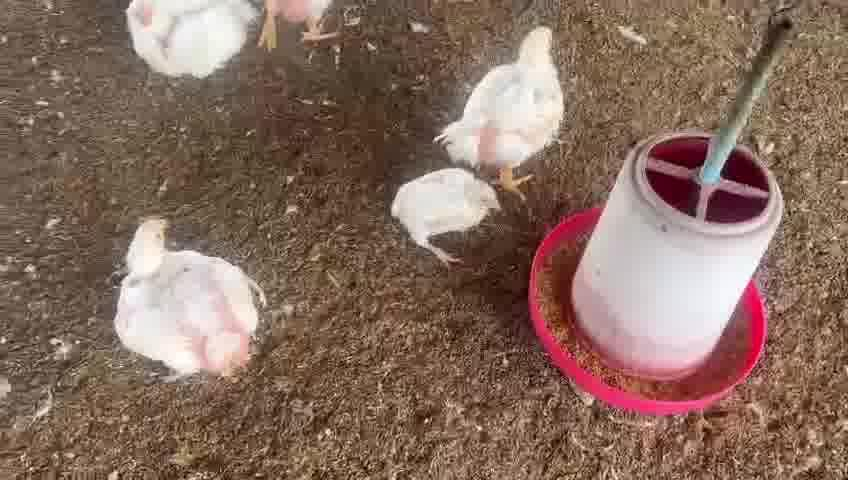AbNormal: (389, 164, 509, 270)
Normal: (105, 220, 270, 378), (438, 20, 578, 192), (119, 0, 271, 100)
